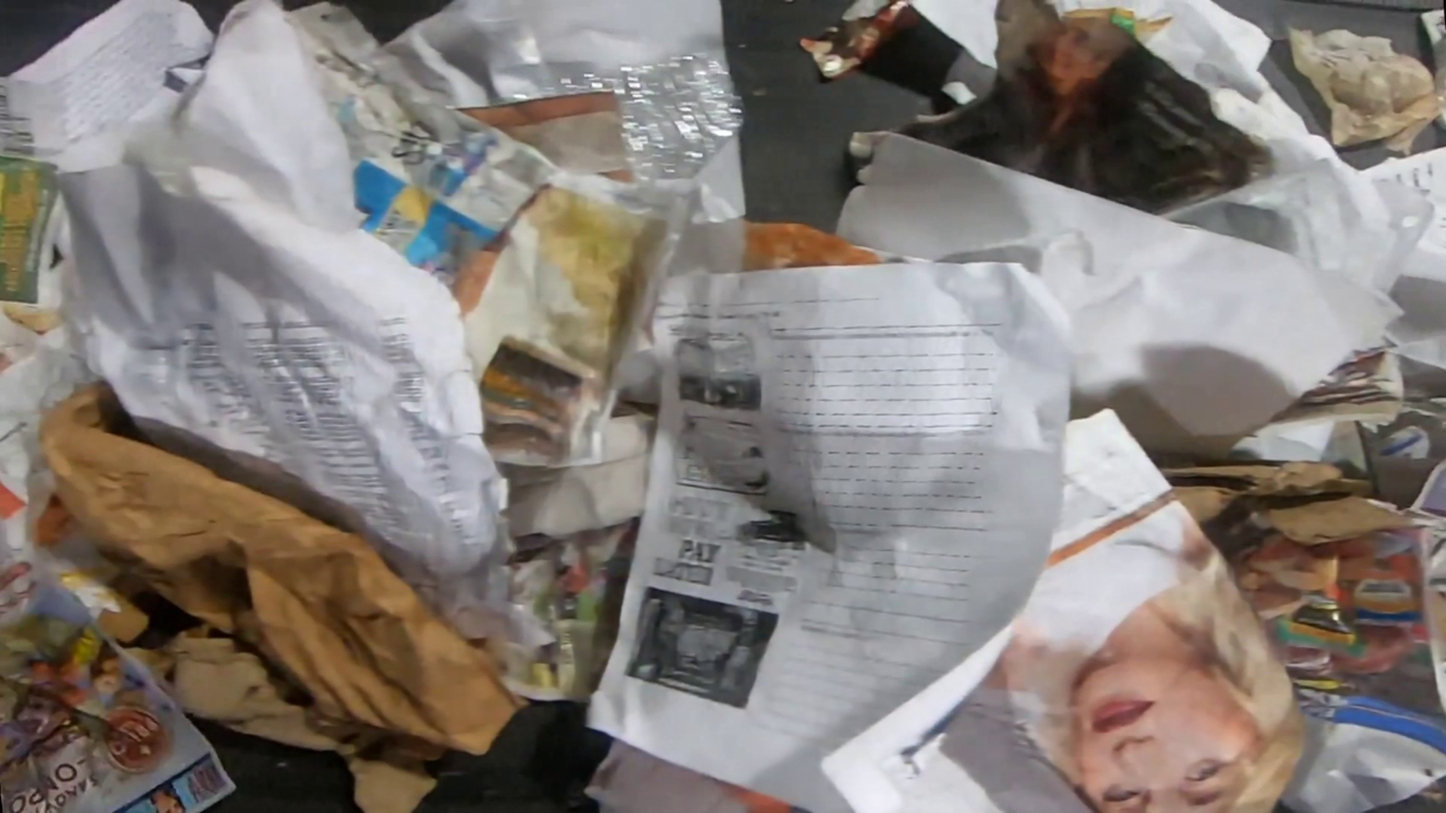cardboard: (119, 620, 452, 813), (1151, 459, 1423, 551), (56, 555, 154, 645)
plastic: (496, 51, 750, 191), (1281, 20, 1446, 158)
